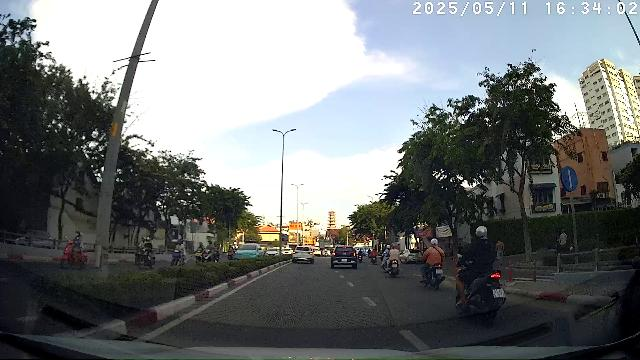301a-cac-xe-chi-duoc-di-thang: (560, 166, 578, 192)
